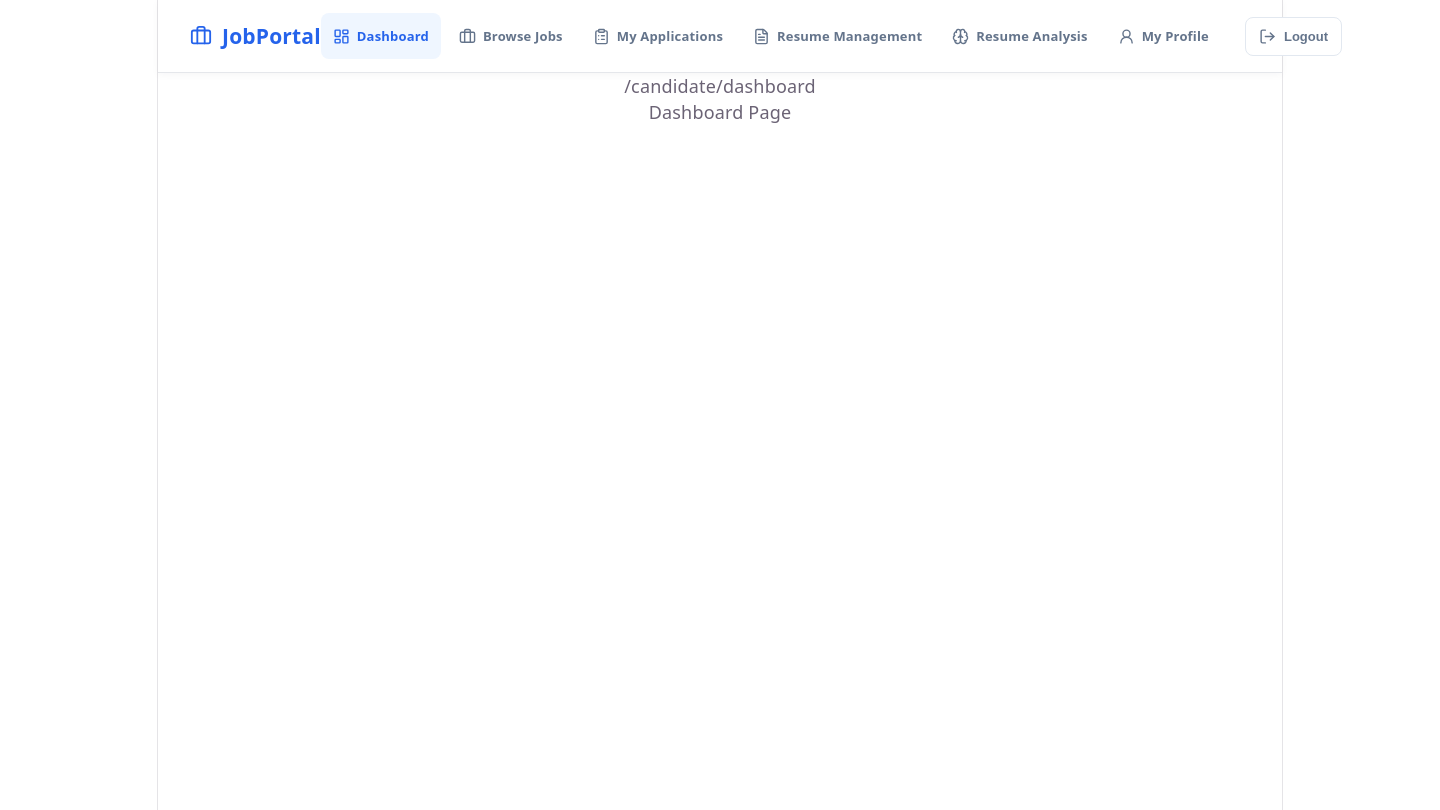
Test: CandidateNavbar › logs out and navigates to Login
The width and height of the screenshot is (1440, 810).
Click the button "Logout". click: (1294, 36)
box: [1245,16,1342,56]
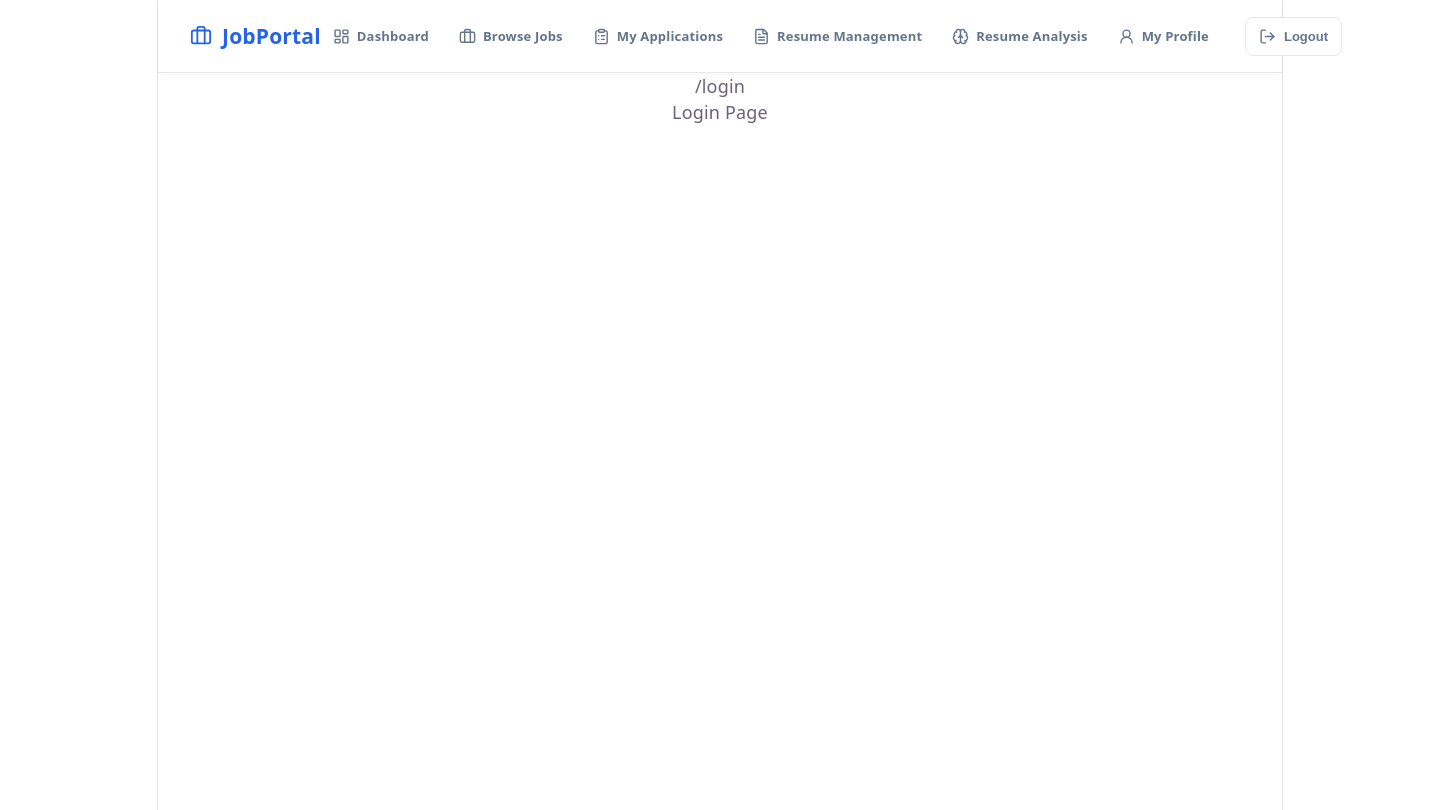
Expected: the text with test id "current-location" reads "/login", [695,74,745,98]
Expected: the text "Login Page" is shown, [672,100,768,124]
